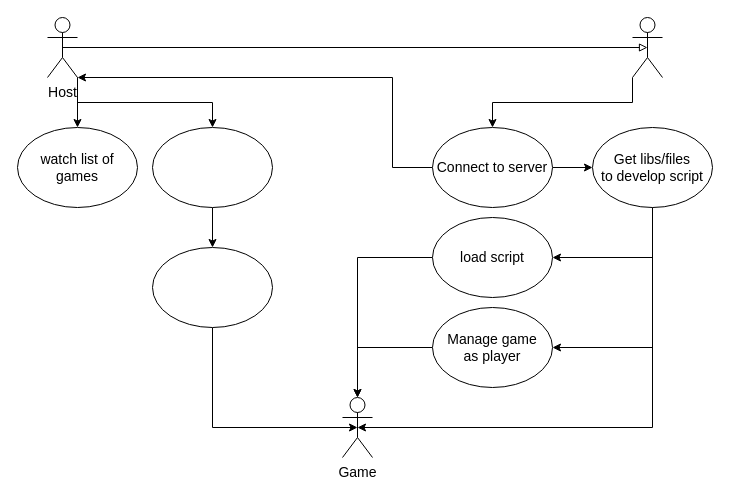
Image size: 730x499. Some labels were removed from this diagram. The centre of each missing label's shape, as x and y in pixels:
"Client" goes at (x=647, y=47).
"Create server with Game" goes at (x=212, y=167).
"Manage game as host" goes at (x=212, y=287).
